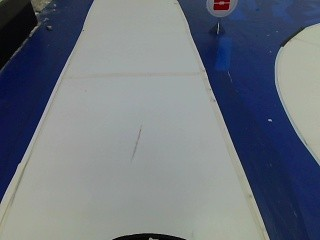company: (206, 0, 237, 19)
